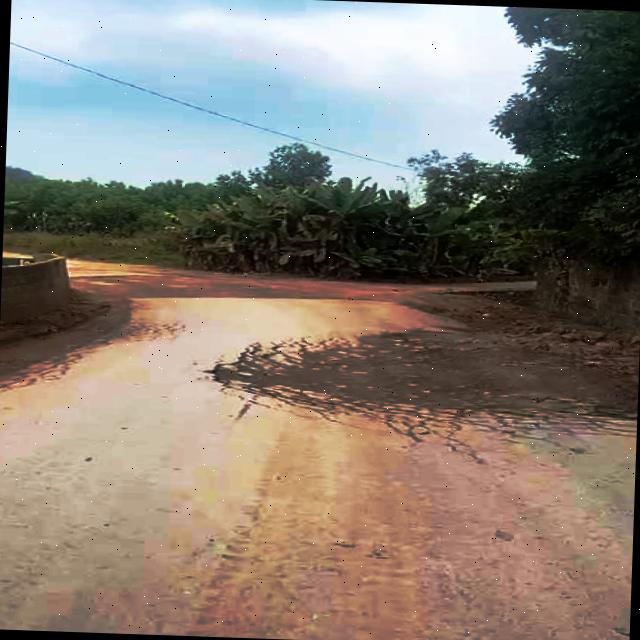pothole: (226, 325, 640, 418)
